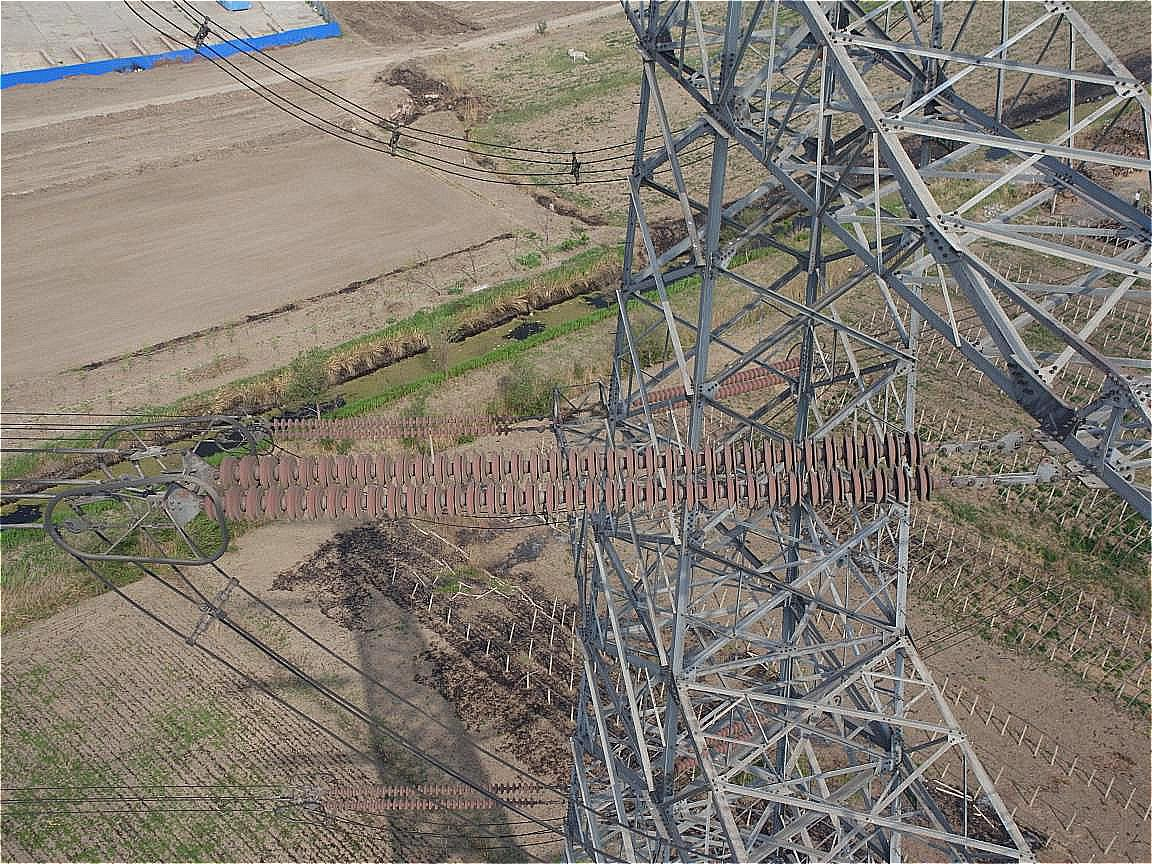insultor1: (313, 772, 543, 812), (268, 412, 509, 441)
insultor2: (180, 409, 956, 539)
